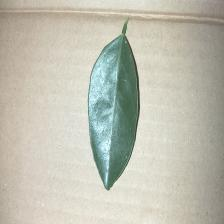healthy: (88, 16, 140, 192)
